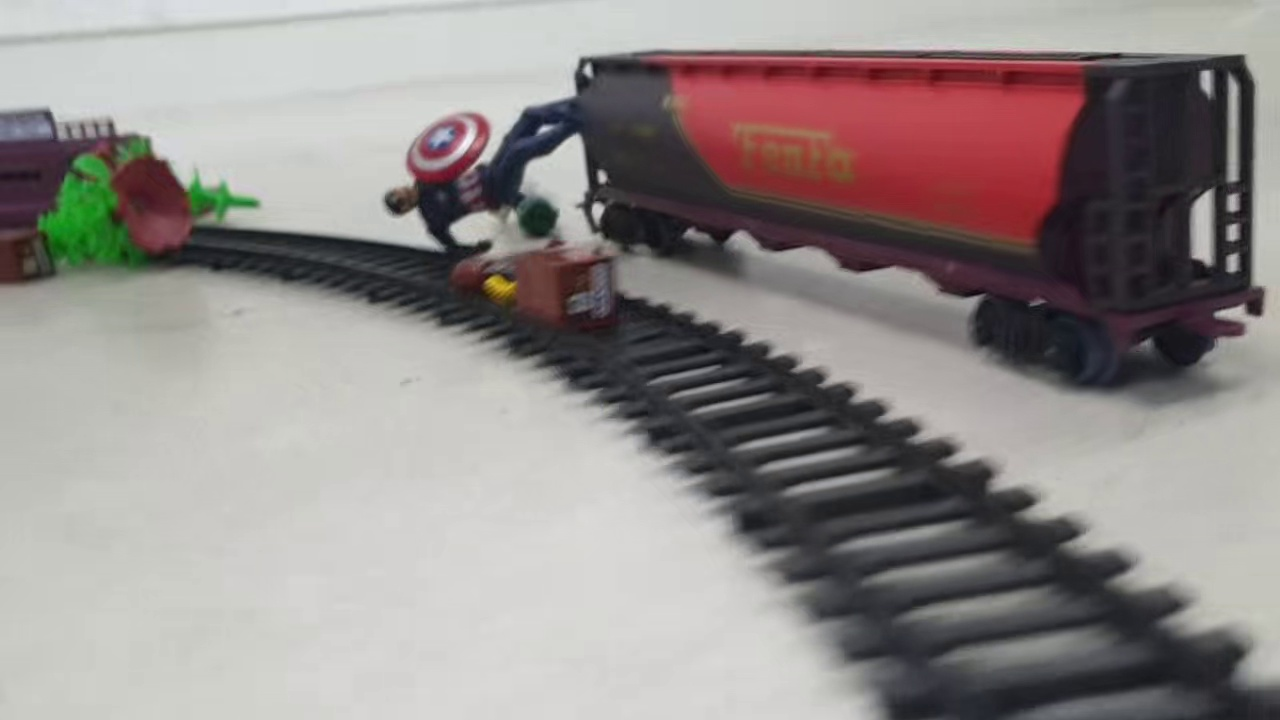box: (515, 246, 622, 336), (1, 226, 60, 286)
people: (381, 93, 585, 257), (452, 246, 605, 306), (509, 192, 561, 237)
tree: (32, 131, 189, 274), (156, 172, 260, 224)
